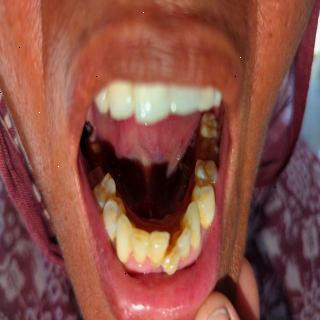maligned: (157, 244, 182, 278)
plaque: (125, 238, 146, 274), (146, 243, 163, 269)
stains: (194, 209, 210, 237), (125, 232, 128, 234)
